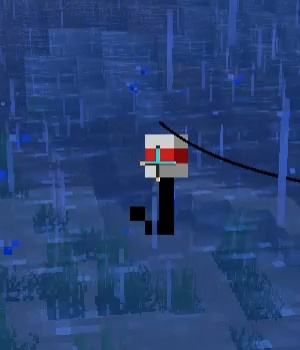up: (130, 135, 190, 242)
